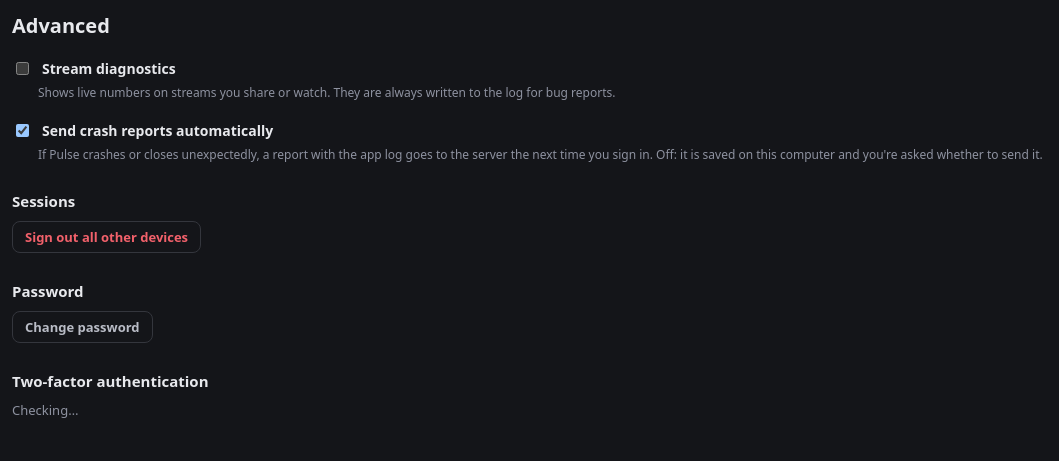
AdvancedSettings: send crash reports automatically › a failed save puts it back and says why
Click the checkbox labelled "Send crash reports automatically" at coordinates (22, 130), box x1=16 y1=124 x2=29 y2=137
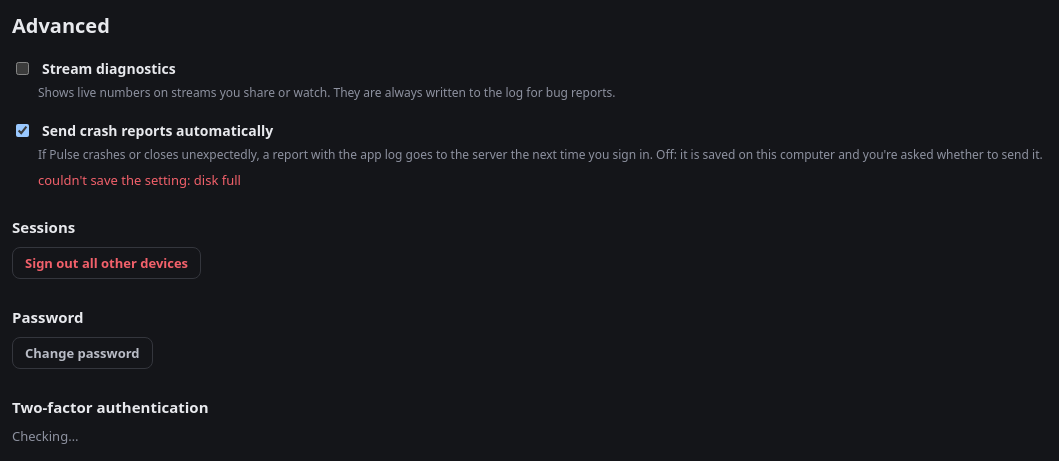
Check: the message "couldn't save the setting: disk full" is shown, box x1=38 y1=171 x2=241 y2=189
